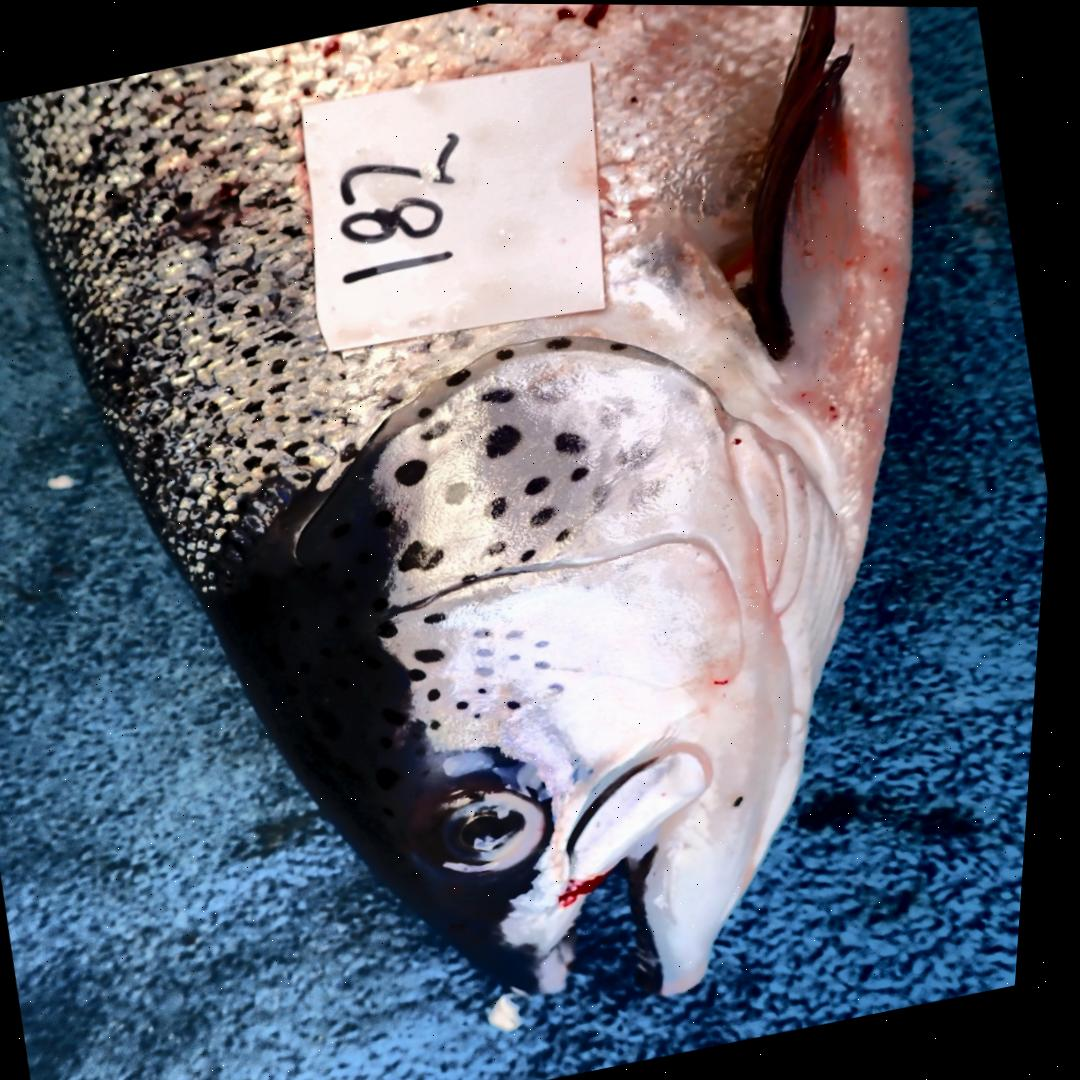spot: (406, 539, 451, 571), (492, 423, 527, 457), (401, 457, 434, 485), (560, 430, 592, 453), (452, 480, 479, 503), (428, 419, 457, 440), (490, 496, 516, 518), (488, 386, 520, 402), (532, 474, 556, 494), (537, 506, 563, 524), (424, 647, 454, 662), (452, 367, 475, 384), (385, 619, 406, 637), (552, 334, 577, 349), (490, 540, 514, 554), (577, 465, 594, 480), (418, 666, 436, 680), (433, 611, 454, 623), (502, 346, 521, 359), (486, 665, 504, 676), (530, 549, 545, 562), (436, 687, 451, 699), (483, 627, 501, 637), (423, 406, 439, 417), (469, 573, 488, 582), (558, 681, 574, 691), (517, 630, 533, 639), (566, 528, 578, 540), (616, 341, 634, 349), (517, 698, 531, 708), (544, 660, 559, 669), (438, 718, 450, 729), (543, 639, 557, 648), (467, 699, 480, 708), (487, 685, 500, 692), (488, 648, 500, 655), (519, 653, 531, 660), (485, 712, 492, 719)
